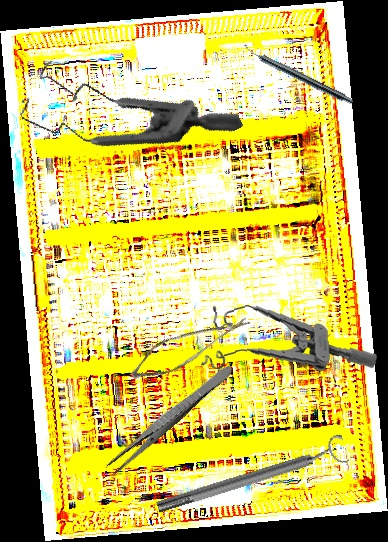Dressing Forceps: (103, 360, 236, 478)
Fixation Ring: (152, 432, 351, 522)
Handpiece: (240, 42, 356, 107)
Micro Scissor: (125, 290, 252, 400)
Speculum: (5, 0, 244, 208), (195, 292, 378, 383)
